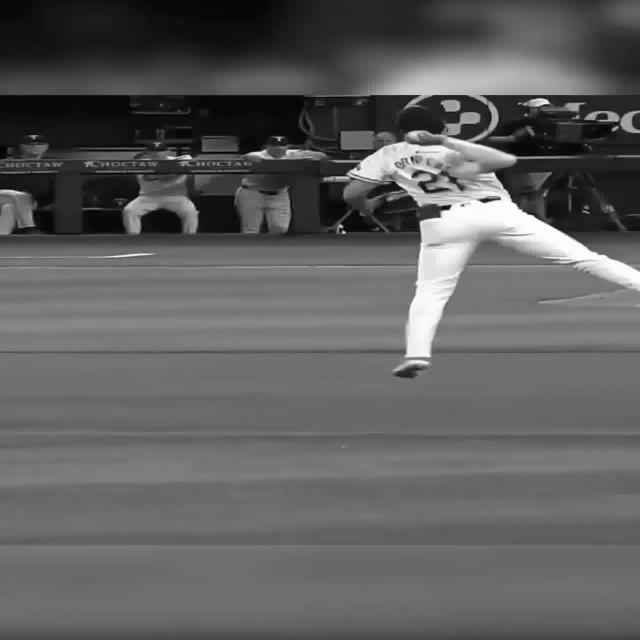baseball: (404, 130, 430, 143)
shoe: (391, 359, 429, 378)
